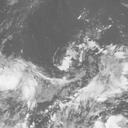cyclone: (52, 39, 123, 103)
